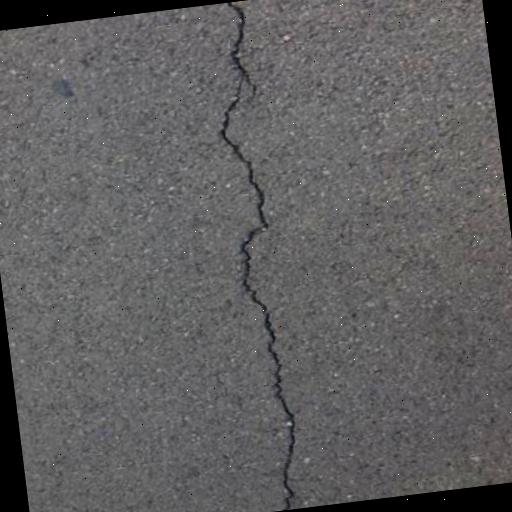spalling: (195, 8, 322, 507)
